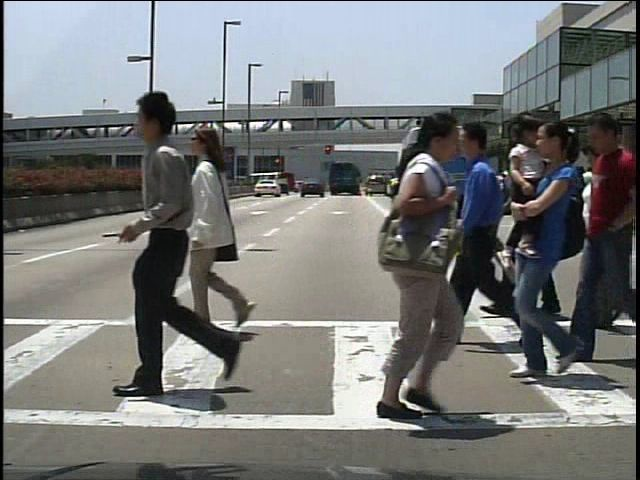person: (106, 79, 257, 411), (348, 112, 478, 425), (159, 119, 285, 343), (448, 116, 518, 343), (487, 130, 559, 322), (585, 143, 629, 345), (582, 168, 602, 218), (488, 162, 506, 215)
